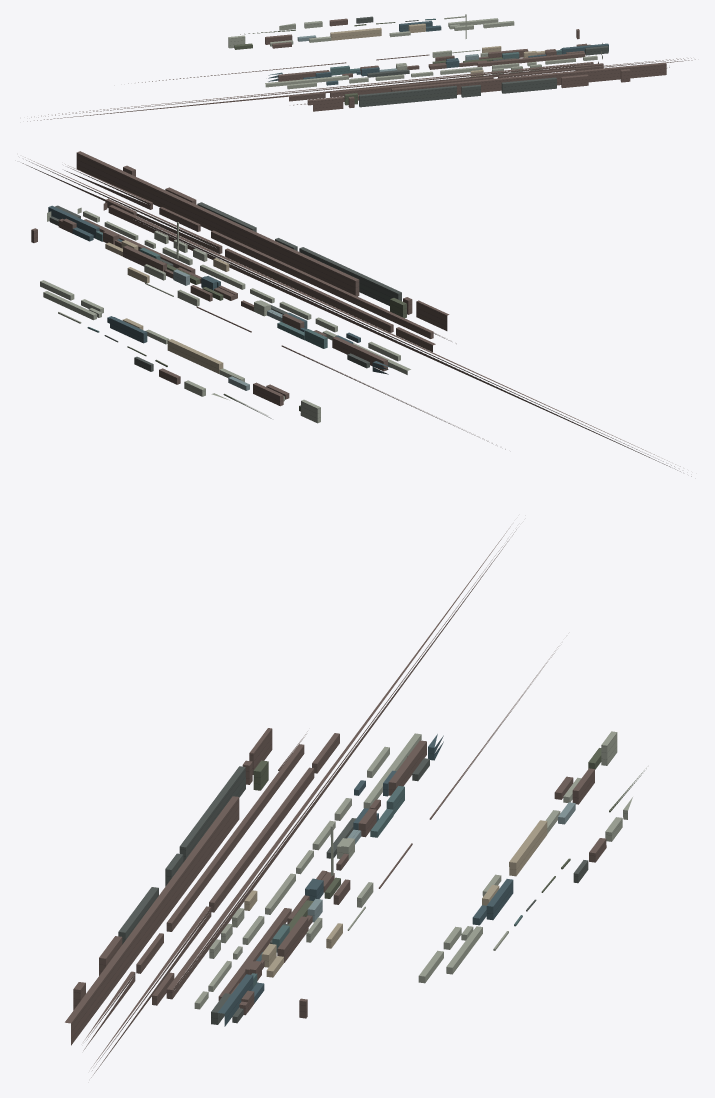
File: terminal-89---19_18.glb
The picture shows the model from 3 angles, top to bottom: view 1: azimuth 30°, elevation 25°; view 2: azimuth 150°, elevation 25°; view 3: azimuth 270°, elevation 25°; orthographic projection. The views are drawn at different scales.
Visible parts, largest first — view 1: measured-industrial; view 2: measured-industrial; view 3: measured-industrial.
Part boxes in pixels (x1,y1,x2,y2): measured-industrial: (27,14,695,121); measured-industrial: (22,151,691,476); measured-industrial: (65,526,646,1077).
Size of the model in its own units: 514 by 37.9 by 226.
